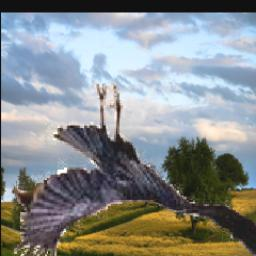Crow: (13, 82, 256, 256)
